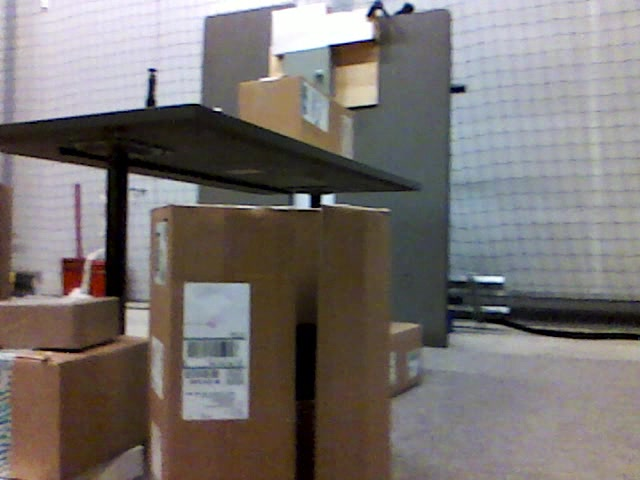box: (150, 202, 392, 480), (4, 341, 147, 472), (240, 74, 356, 155), (1, 297, 117, 345), (389, 322, 423, 397)
